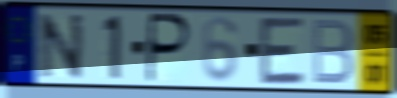1: (100, 13, 123, 82)
6: (201, 14, 241, 85)
B: (310, 17, 355, 87)
E: (257, 15, 308, 88)
N: (37, 11, 86, 81)
P: (144, 11, 194, 86)
